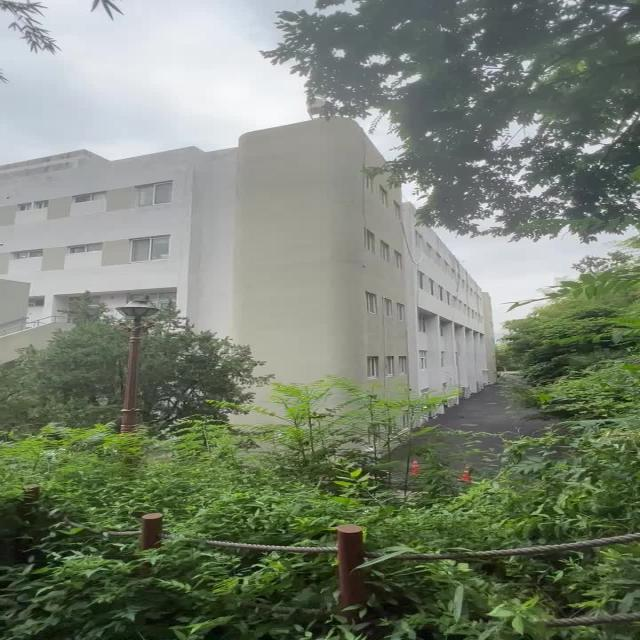building: (14, 126, 404, 328)
